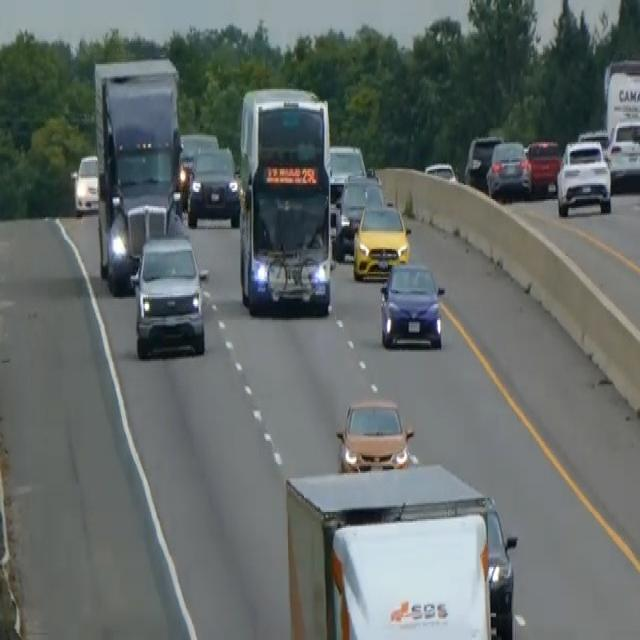bus: (237, 84, 334, 316)
car: (335, 395, 416, 473), (379, 260, 445, 350), (352, 199, 411, 281), (186, 144, 241, 228), (556, 137, 612, 217), (335, 172, 384, 258), (176, 130, 218, 204), (486, 137, 531, 199), (327, 143, 366, 205), (606, 115, 639, 188), (463, 132, 502, 190), (525, 137, 561, 195), (70, 153, 99, 215), (577, 126, 610, 162), (424, 160, 457, 183)
jeep: (128, 233, 209, 359)
lorry: (283, 461, 517, 638), (92, 54, 185, 292)
